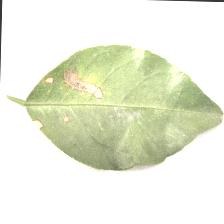canker: (27, 48, 114, 137)
